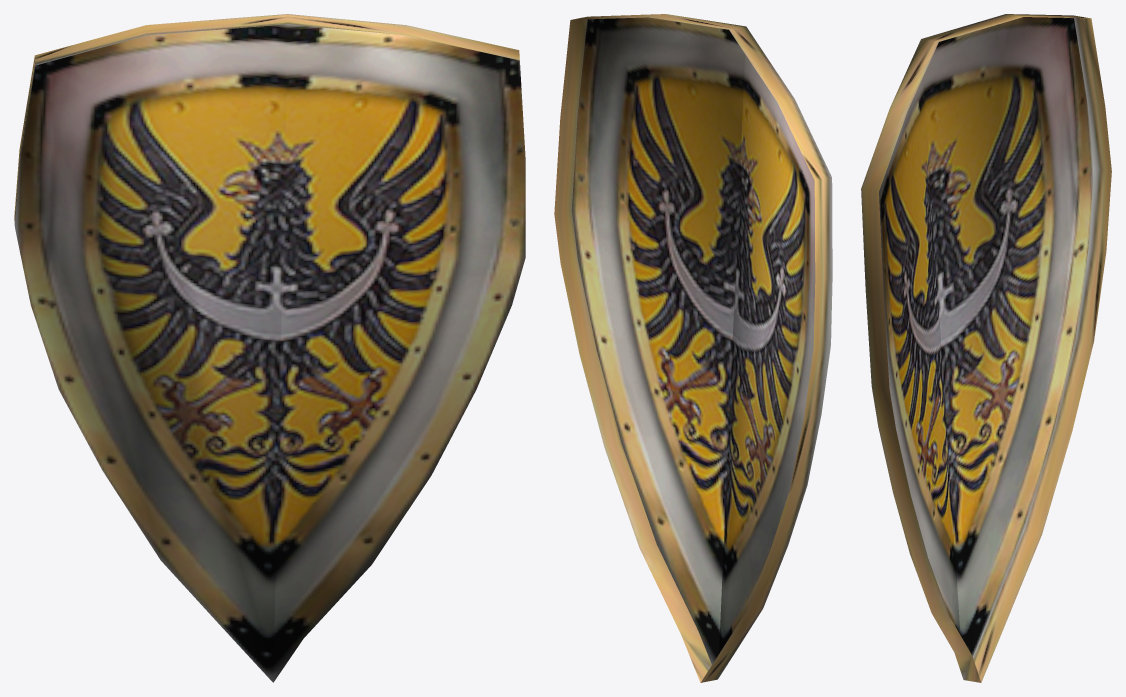
Rendered from shield_deco3.fbx.
3 views of the same model, side by side, from view 1: azimuth 30°, elevation 25°; view 2: azimuth 150°, elevation 25°; view 3: azimuth 270°, elevation 25° (orthographic). The views are drawn at different scales.
Visible parts, largest first — view 1: object; view 2: object; view 3: object.
Part boxes in pixels (x1,y1,x2,y2): object: (14, 14, 525, 682); object: (554, 14, 832, 682); object: (861, 14, 1111, 682).
Size of the model in its own units: 37.48 by 60.49 by 21.54.
